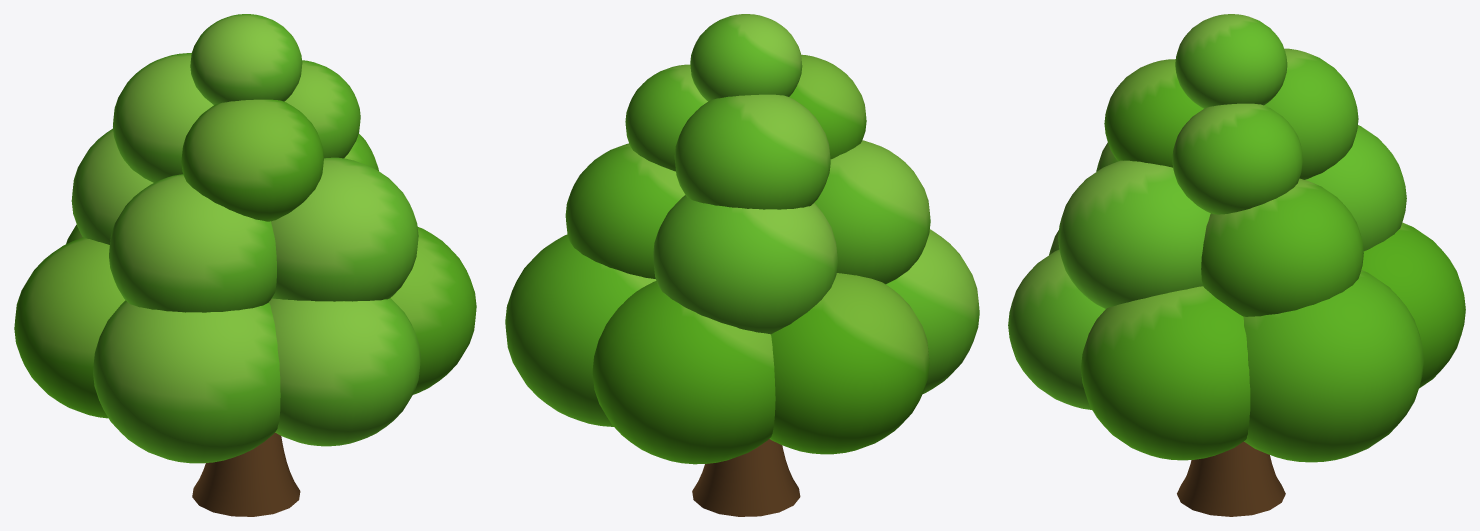
Rendered from pine-tree-105.obj.
The picture shows the model from 3 angles, left to right: view 1: azimuth 30°, elevation 25°; view 2: azimuth 150°, elevation 25°; view 3: azimuth 270°, elevation 25°; orthographic projection.
Visible parts, largest first — view 1: tree; view 2: tree; view 3: tree.
Boxes of the visible parts, x1,y1,x2,y2 form: tree: (14, 14, 476, 516); tree: (505, 14, 979, 516); tree: (1008, 14, 1465, 516).
Size of the model in its own units: 277 by 325 by 284.
